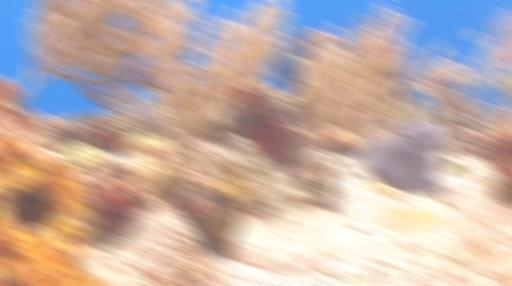Fish: (464, 22, 495, 42), (291, 54, 304, 63), (445, 168, 466, 173), (263, 72, 276, 78)
